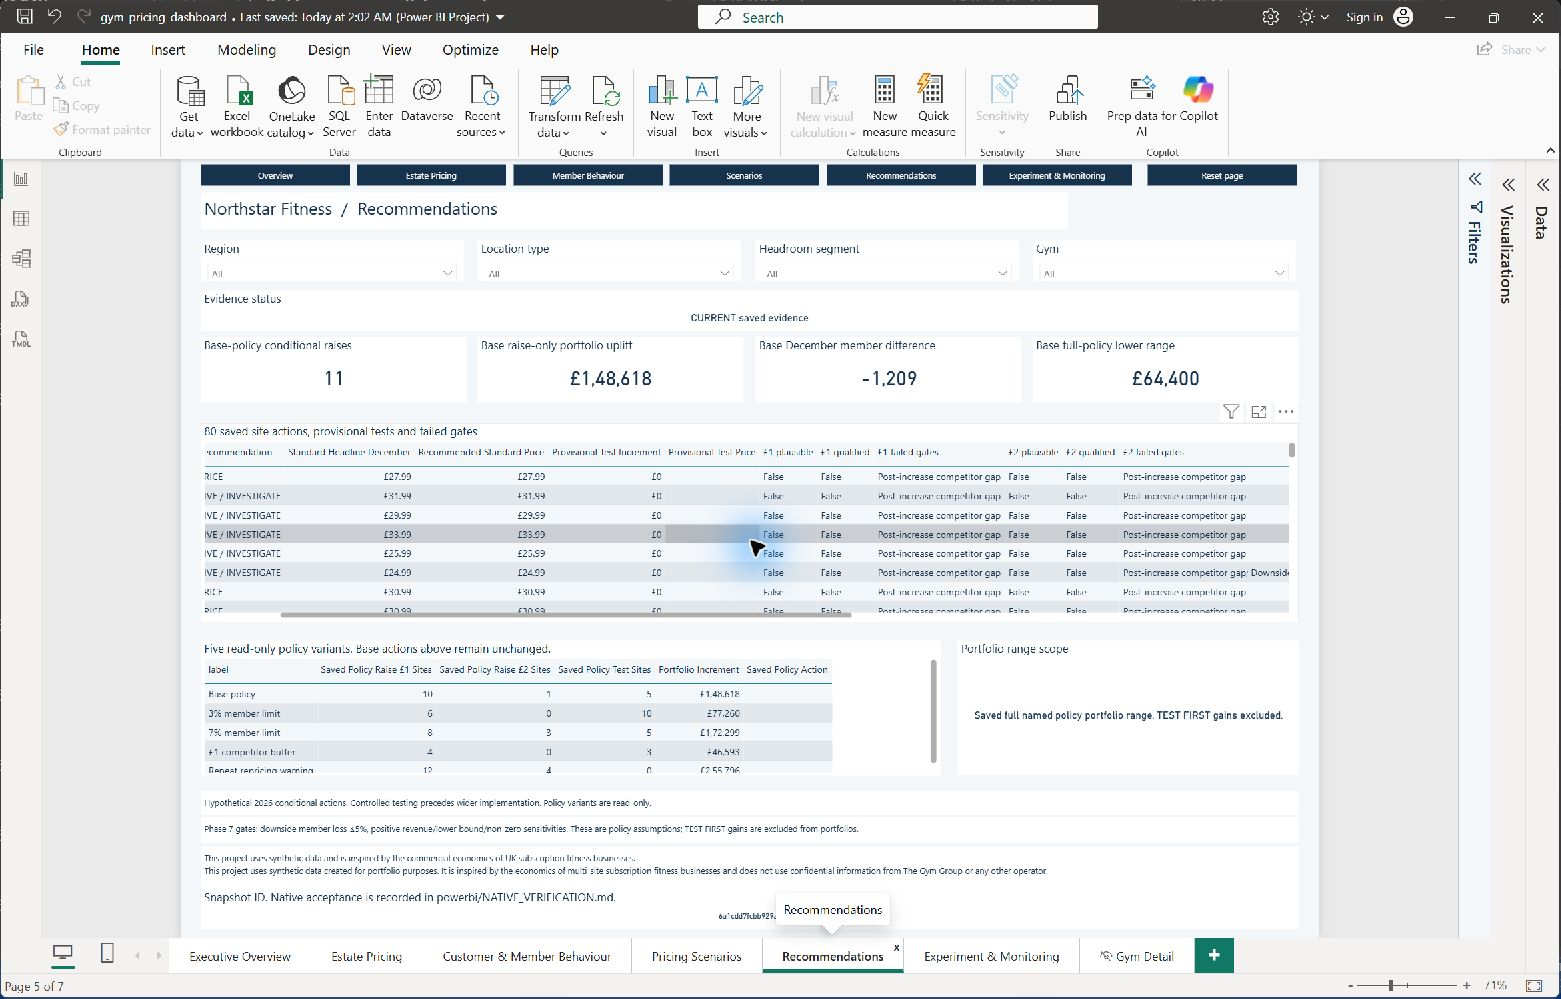

This screenshot's page, from the dashboard's own definition file:
{"tool":"powerbi","page":{"name":"Recommendations","canvas":[1600,1095],"ordinal":4},"visuals":[{"type":"card","title":"Evidence status","fields":{"Values":["CommercialMeasures.Evidence Status"]},"box":[28,184,1544,57],"z":0},{"type":"card","title":"Base-policy conditional raises","fields":{"Values":["CommercialMeasures.Conditional Raise Sites"]},"box":[28,250,374,91],"z":1},{"type":"card","title":"Base raise-only portfolio uplift","fields":{"Values":["CommercialMeasures.Base Portfolio Increment"]},"box":[418,250,374,91],"z":2},{"type":"card","title":"Base December member difference","fields":{"Values":["CommercialMeasures.Base Portfolio Member Difference"]},"box":[808,250,374,91],"z":3},{"type":"card","title":"Base full-policy lower range","fields":{"Values":["CommercialMeasures.Base Portfolio Increment lower"]},"box":[1198,250,374,91],"z":4},{"type":"tableEx","title":"80 saved site actions, provisional tests and failed gates","fields":{"Values":["DimGym.gym_id","DimGym.city","CommercialMeasures.Saved Recommendation","CommercialMeasures.Standard Headline December","CommercialMeasures.Recommended Standard Price","CommercialMeasures.Provisional Test Increment","CommercialMeasures.Provisional Test Price","CommercialMeasures.£1 plausible","CommercialMeasures.£1 qualified","CommercialMeasures.£1 failed gates","CommercialMeasures.£2 plausible","CommercialMeasures.£2 qualified"]},"box":[28,371,1544,279],"z":5},{"type":"tableEx","title":"Five read-only policy variants. Base actions above remain unchanged.","fields":{"Values":["DimPolicy.label","CommercialMeasures.Saved Policy Raise £1 Sites","CommercialMeasures.Saved Policy Raise £2 Sites","CommercialMeasures.Saved Policy Test Sites","CommercialMeasures.Portfolio Increment","CommercialMeasures.Saved Policy Action"]},"box":[28,677,1040,190],"z":6},{"type":"card","title":"Portfolio range scope","fields":{"Values":["CommercialMeasures.Portfolio Uncertainty Scope"]},"box":[1092,677,480,190],"z":7},{"type":"slicer","title":"Region","fields":{"Values":["DimGym.region"]},"box":[28,114,370,58],"z":8},{"type":"slicer","title":"Location type","fields":{"Values":["DimGym.location_type"]},"box":[418,114,370,58],"z":9},{"type":"slicer","title":"Headroom segment","fields":{"Values":["DimGym.segment"]},"box":[808,114,370,58],"z":10},{"type":"slicer","title":"Gym","fields":{"Values":["DimGym.gym_id"]},"box":[1198,114,370,58],"z":11},{"type":"textbox","box":[28,47,1220,51],"z":12},{"type":"textbox","box":[28,889,1544,33],"z":13},{"type":"card","title":"Snapshot ID. Native acceptance is recorded in powerbi/NATIVE_VERIFICATION.md.","fields":{"Values":["CommercialMeasures.Snapshot Version"]},"box":[28,1026,1544,56],"z":14},{"type":"textbox","box":[28,925,1544,35],"z":15},{"type":"textbox","box":[28,966,1544,62],"z":16},{"type":"actionButton","title":"Overview","box":[28,7,210,30],"z":17},{"type":"actionButton","title":"Estate Pricing","box":[248,7,210,30],"z":18},{"type":"actionButton","title":"Member Behaviour","box":[468,7,210,30],"z":19},{"type":"actionButton","title":"Scenarios","box":[688,7,210,30],"z":20},{"type":"actionButton","title":"Recommendations","box":[908,7,210,30],"z":21},{"type":"actionButton","title":"Experiment & Monitoring","box":[1128,7,210,30],"z":22},{"type":"actionButton","title":"Reset page","box":[1360,7,210,30],"z":23}]}

Visuals, with their boxes on the page's 1600x1095 design canvas (x1, y1, x2, y2). These are canvas units, not pixel positions in the 1561x999 screenshot, which may show the page scaled, cropped or inside an application window:
"Evidence status" card: Rect(28, 184, 1572, 241)
"Base-policy conditional raises" card: Rect(28, 250, 402, 341)
"Base raise-only portfolio uplift" card: Rect(418, 250, 792, 341)
"Base December member difference" card: Rect(808, 250, 1182, 341)
"Base full-policy lower range" card: Rect(1198, 250, 1572, 341)
"80 saved site actions, provisional tests and failed gates" tableEx: Rect(28, 371, 1572, 650)
"Five read-only policy variants. Base actions above remain unchanged." tableEx: Rect(28, 677, 1068, 867)
"Portfolio range scope" card: Rect(1092, 677, 1572, 867)
"Region" slicer: Rect(28, 114, 398, 172)
"Location type" slicer: Rect(418, 114, 788, 172)
"Headroom segment" slicer: Rect(808, 114, 1178, 172)
"Gym" slicer: Rect(1198, 114, 1568, 172)
textbox: Rect(28, 47, 1248, 98)
textbox: Rect(28, 889, 1572, 922)
"Snapshot ID. Native acceptance is recorded in powerbi/NATIVE_VERIFICATION.md." card: Rect(28, 1026, 1572, 1082)
textbox: Rect(28, 925, 1572, 960)
textbox: Rect(28, 966, 1572, 1028)
"Overview" actionButton: Rect(28, 7, 238, 37)
"Estate Pricing" actionButton: Rect(248, 7, 458, 37)
"Member Behaviour" actionButton: Rect(468, 7, 678, 37)
"Scenarios" actionButton: Rect(688, 7, 898, 37)
"Recommendations" actionButton: Rect(908, 7, 1118, 37)
"Experiment & Monitoring" actionButton: Rect(1128, 7, 1338, 37)
"Reset page" actionButton: Rect(1360, 7, 1570, 37)
